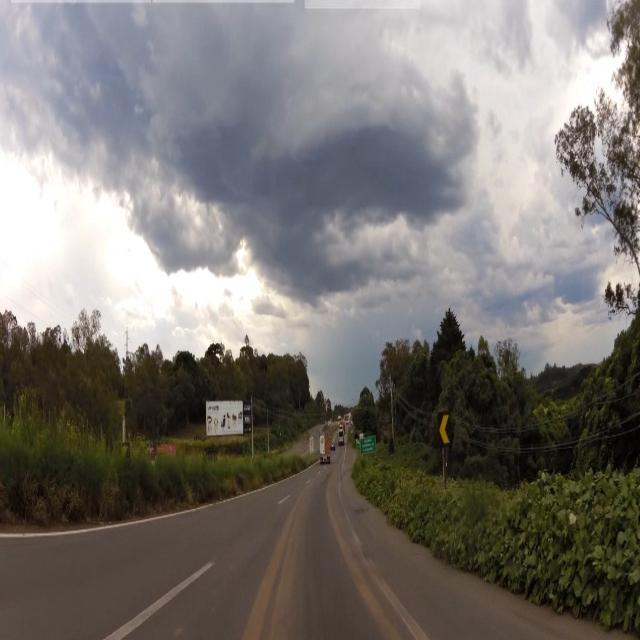Del: (437, 412, 451, 448)
